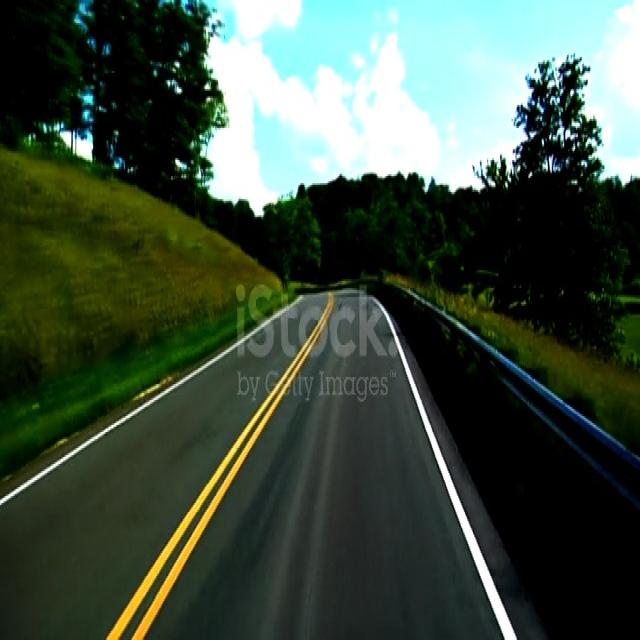lane: (107, 293, 334, 638)
